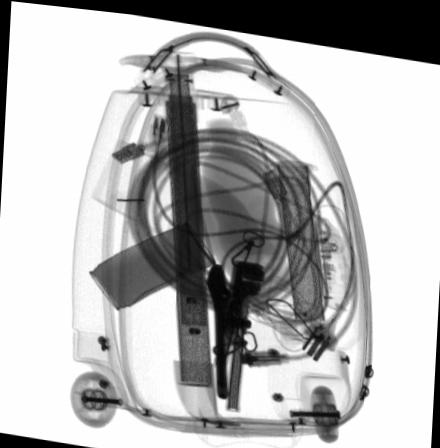Pliers: (213, 252, 265, 407)
Wrench: (206, 259, 228, 394)
